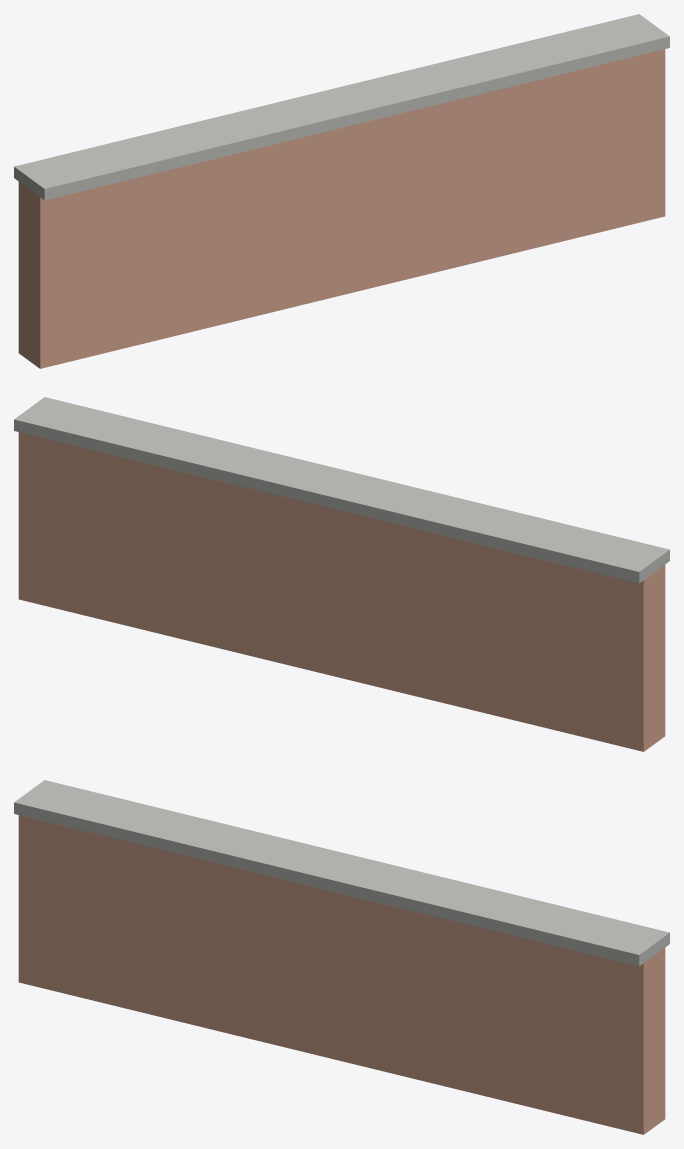
The model's file is b-parapet.glb.
3 views of the same model, one above another, from view 1: azimuth 30°, elevation 25°; view 2: azimuth 150°, elevation 25°; view 3: azimuth 330°, elevation 25° (orthographic).
Parts seen in each view (by area): view 1: b-parapet; view 2: b-parapet; view 3: b-parapet.
Boxes of the visible parts, box(x1,y1,x2,y2) form: b-parapet: box(14, 14, 669, 368); b-parapet: box(14, 397, 669, 751); b-parapet: box(14, 780, 669, 1134).
Size of the model in its own units: 4 by 1.12 by 0.34.
